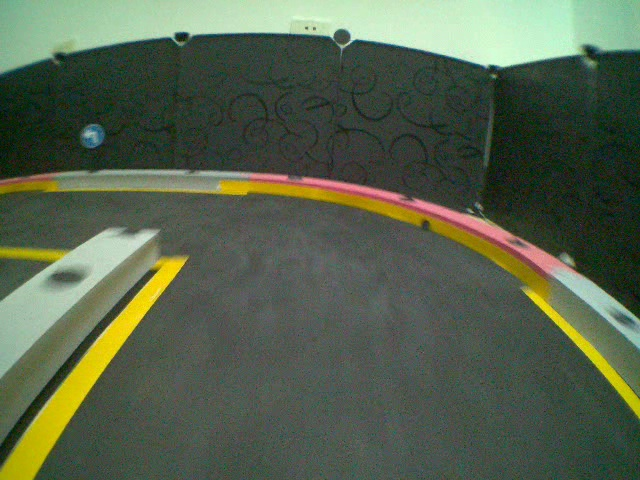turn: (77, 122, 105, 151)
